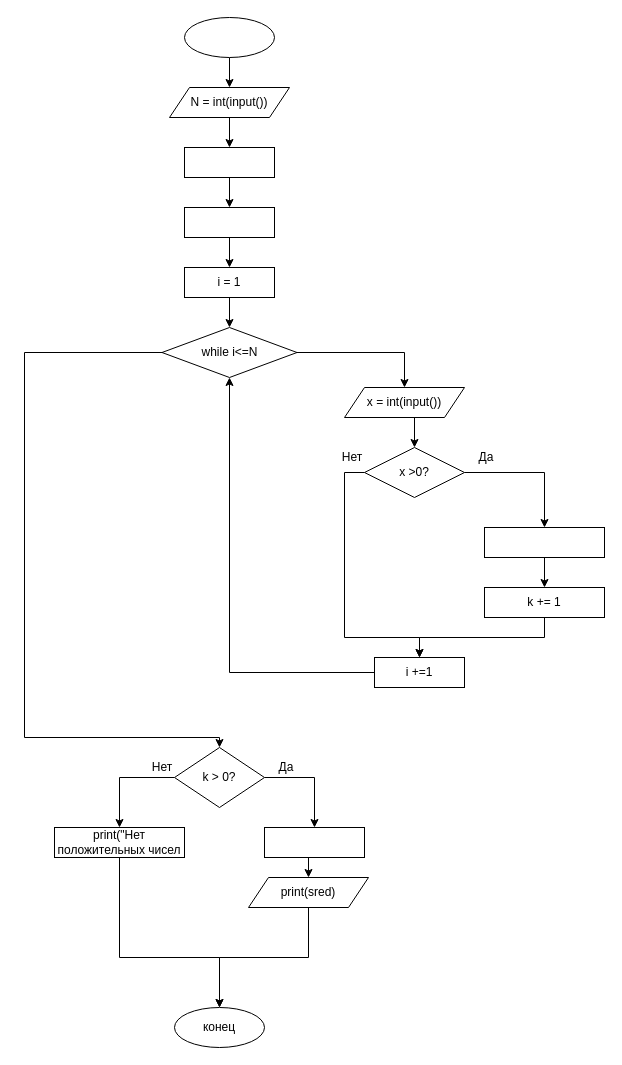
Image size: 622x1065. Some labels were removed from this diagram. The centre of each missing label's shape, as x and y in pixels:
"k = 0" belongs at point (229, 222).
"Sred = sum / k" belongs at point (314, 842).
"sum += x" belongs at point (544, 542).
"sum = 0" belongs at point (229, 162).
"начало" belongs at point (229, 37).
